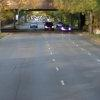Tree: (51, 0, 100, 16)
